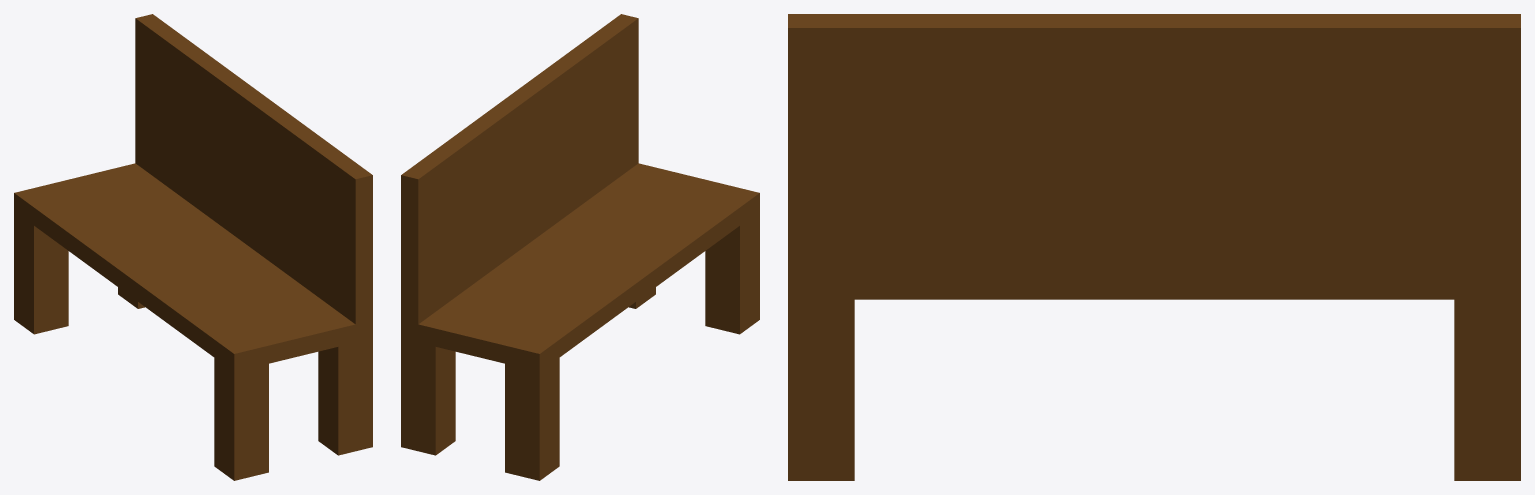
Rendered from park bench-0.obj.
3 views of the same model, side by side, from view 1: azimuth 30°, elevation 25°; view 2: azimuth 150°, elevation 25°; view 3: azimuth 270°, elevation 25° (orthographic). The views are drawn at different scales.
Size of the model in its own units: 0.8 by 1.5 by 2.2.
Materials: 1 (1 with a texture image).
